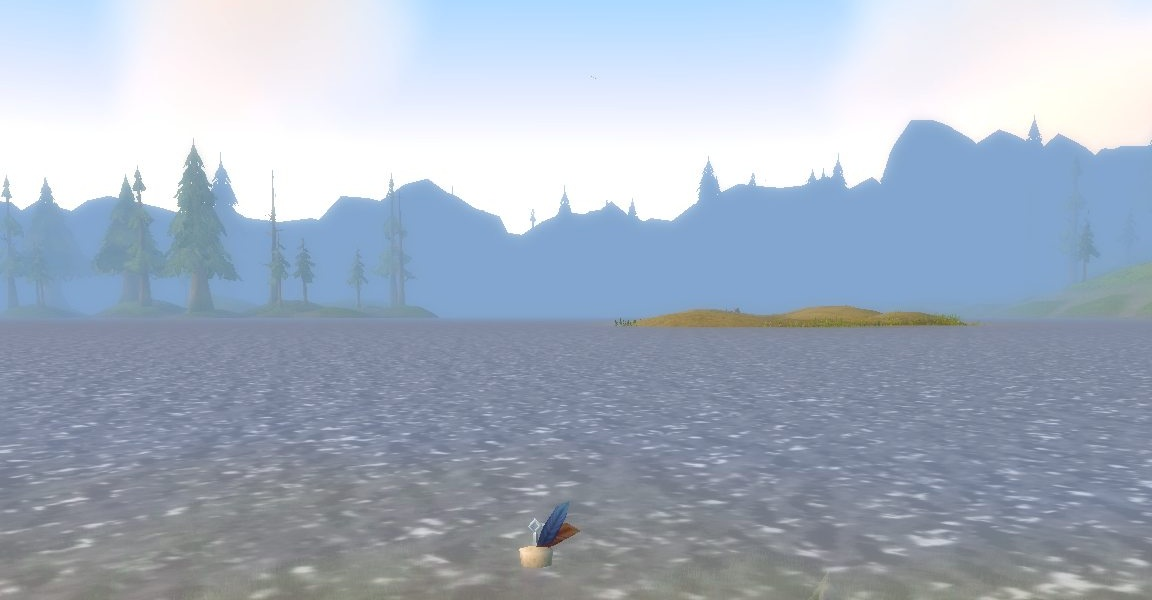Bobber: (515, 499, 581, 570)
